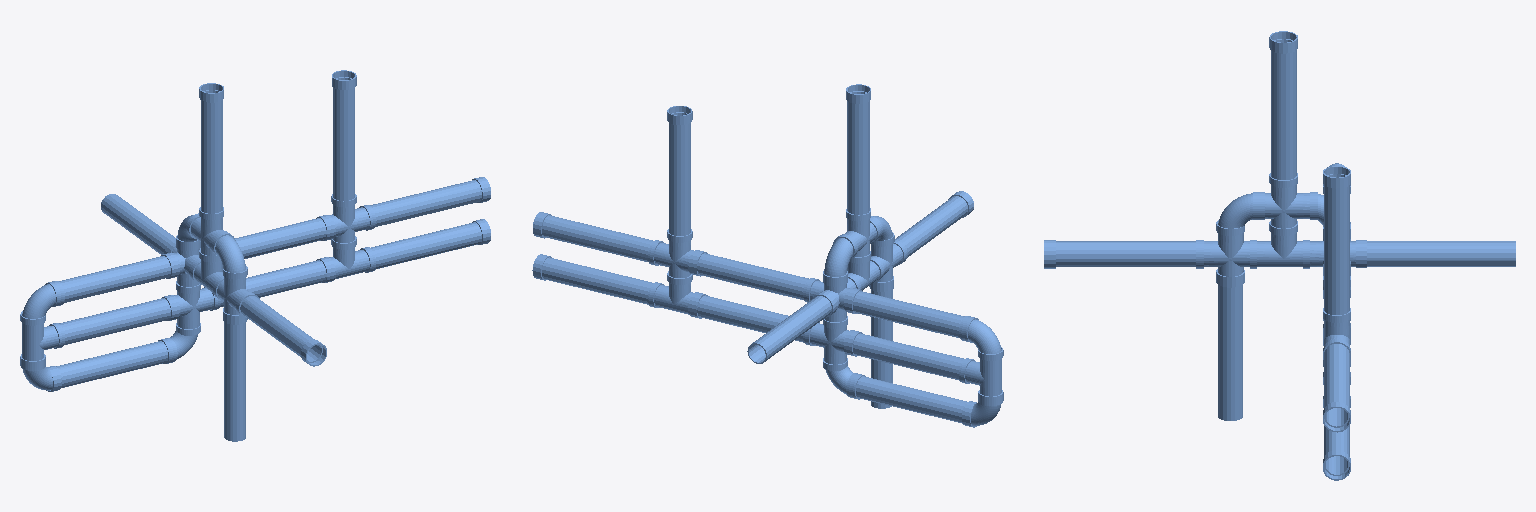
robot.urdf — rury2:
<?xml version="1.0" encoding="utf-8"?>
<!-- This URDF was automatically created by SolidWorks to URDF Exporter! Originally created by [author] ([email redacted]) 
     Commit Version: 1.5.0-0-g9aa0fdb  Build Version: 1.5.7004.21443
     For more information, please see http://wiki.ros.org/sw_urdf_exporter -->
<robot
  name="rury2">
  <link
    name="base_link">
    <inertial>
      <origin
        xyz="-0.146539679083675 -0.144696903376291 -0.163630550647972"
        rpy="0 0 0" />
      <mass
        value="31.6085183988525" />
      <inertia
        ixx="1.64169921519396"
        ixy="-2.89694569101946E-12"
        ixz="2.89685942810303E-12"
        iyy="1.64169921519396"
        iyz="-2.89720061482311E-12"
        izz="1.64169921519396" />
    </inertial>
    <visual>
      <origin
        xyz="0 0 0"
        rpy="0 0 0" />
      <geometry>
        <mesh
          filename="package://rury2/meshes/base_link.STL" />
      </geometry>
      <material
        name="">
        <color
          rgba="0.552941176470588 0.713725490196078 0.92156862745098 1" />
      </material>
    </visual>
    <collision>
      <origin
        xyz="0 0 0"
        rpy="0 0 0" />
      <geometry>
        <mesh
          filename="package://rury2/meshes/base_link.STL" />
      </geometry>
    </collision>
  </link>
  <link
    name="rest">
    <inertial>
      <origin
        xyz="0.112097360493356 -0.330933723235301 4.49177277536988"
        rpy="0 0 0" />
      <mass
        value="757.979559725597" />
      <inertia
        ixx="175.254312783982"
        ixy="-8.49460587610192"
        ixz="0.0785346090394447"
        iyy="177.934390011814"
        iyz="0.0671167117086633"
        izz="104.426515877152" />
    </inertial>
    <visual>
      <origin
        xyz="0 0 0"
        rpy="0 0 0" />
      <geometry>
        <mesh
          filename="package://rury2/meshes/rest.STL" />
      </geometry>
      <material
        name="">
        <color
          rgba="0.552941176470588 0.713725490196078 0.92156862745098 1" />
      </material>
    </visual>
    <collision>
      <origin
        xyz="0 0 0"
        rpy="0 0 0" />
      <geometry>
        <mesh
          filename="package://rury2/meshes/rest.STL" />
      </geometry>
    </collision>
  </link>
  <joint
    name="rest"
    type="fixed">
    <origin
      xyz="4.8748 -0.11607 -0.13501"
      rpy="1.5708 -0.86363 -1.5708" />
    <parent
      link="base_link" />
    <child
      link="rest" />
    <axis
      xyz="0 0 0" />
    <safety_controller
      k_velocity="0" />
  </joint>
</robot>

--- What the picture shows (computed from the rendered views, not written in the file) ---
The picture shows the robot from 3 angles, left to right: view 1: azimuth 30°, elevation 25°; view 2: azimuth 150°, elevation 25°; view 3: azimuth 270°, elevation 25°; orthographic projection.
Model rury2 with 2 links and 1 joints (1 fixed), rooted at base_link, posed every joint at zero.
Links seen in each view (by area): view 1: rest, base_link; view 2: rest, base_link; view 3: rest, base_link.
Boxes of the visible links, left/top/right/bottom form: rest: left=20, top=70, right=490, bottom=441; base_link: left=172, top=247, right=200, bottom=293; rest: left=532, top=84, right=1003, bottom=427; base_link: left=803, top=274, right=860, bottom=328; rest: left=1044, top=31, right=1515, bottom=480; base_link: left=1303, top=240, right=1355, bottom=286.
Size in the robot's own frame: 8.04 by 6.2 by 5.5 metres.
Meshes: 2 distinct files referenced, 2 mesh visuals loaded (2 binary STL).